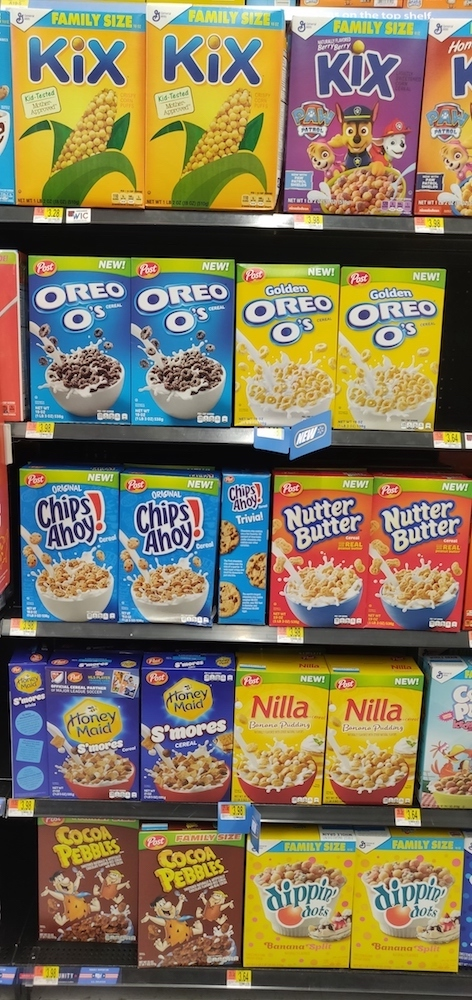Chips Ahoys-565717529: (16, 471, 116, 622), (122, 470, 218, 623)
Cocoa Pebbles-555517893: (135, 818, 245, 964), (35, 815, 136, 945)
Dippin Dots Banana-568929376: (247, 830, 355, 971), (354, 839, 460, 972)
Honey Comb- 009288857: (45, 658, 142, 799)
Honey Maid Graham -563424385: (136, 657, 241, 803)
Kix Berry -568919964: (278, 2, 414, 215)
Kix Crispy Corn-550051312: (145, 1, 276, 208), (15, 11, 143, 206)
Nilla -568301014: (328, 667, 424, 806), (235, 666, 325, 806)
Nutter Butter-565717511: (263, 471, 373, 627), (370, 473, 467, 631)
Oreo Golden-568301011: (229, 260, 341, 429), (336, 260, 438, 430)
Oreo-563424384: (126, 252, 235, 426), (29, 256, 135, 421)
